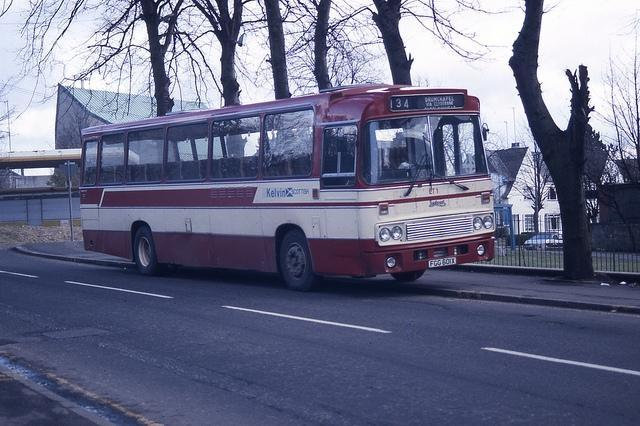bus: (80, 86, 497, 294)
car: (524, 232, 564, 250)
